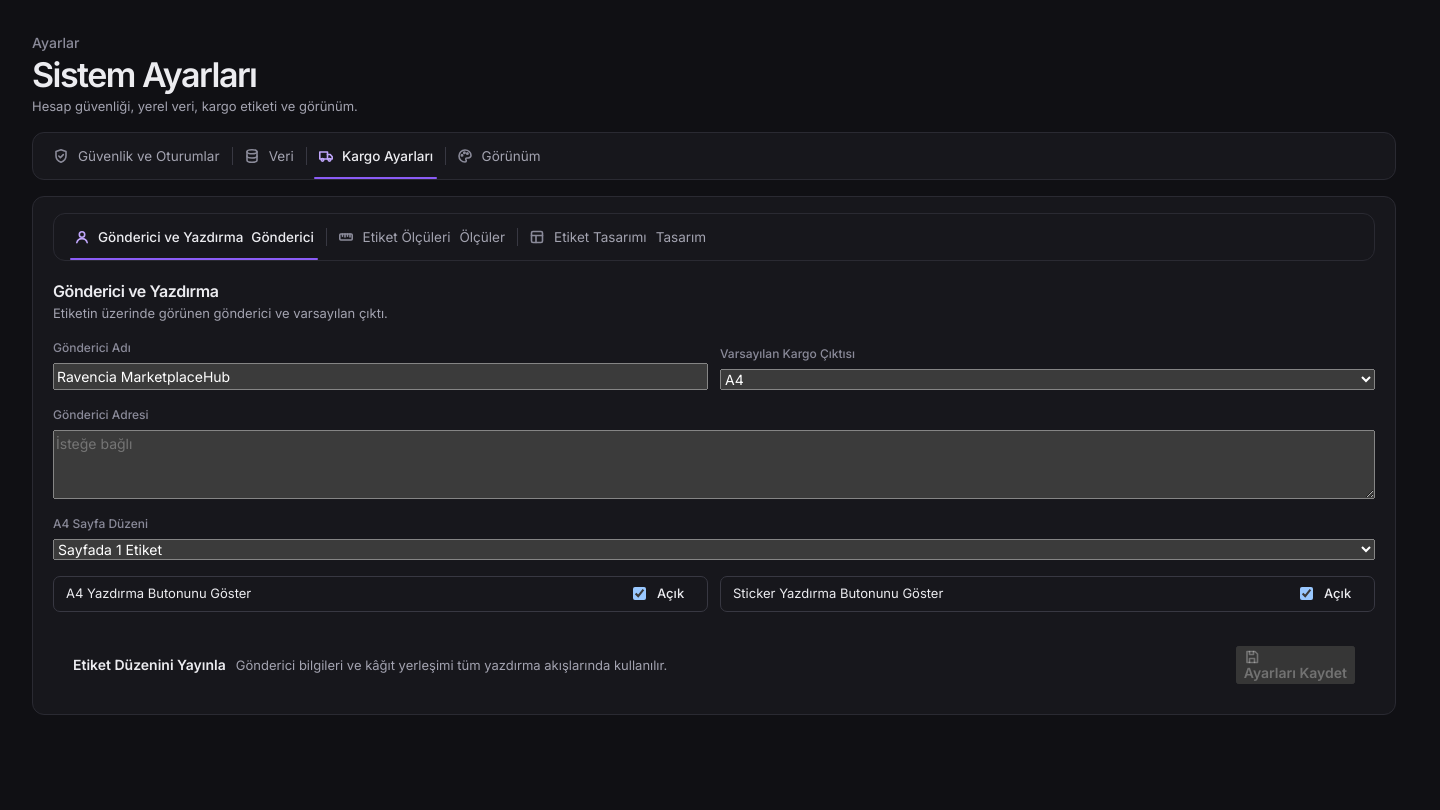
Scenario: SystemSettingsPage › shows a failed save as an error even when the server text does not sound like one (W9)
Step 1. Click the switch named "Sticker Yazdırma Butonunu Göster" → (1306, 594), box x1=1300 y1=587 x2=1313 y2=600
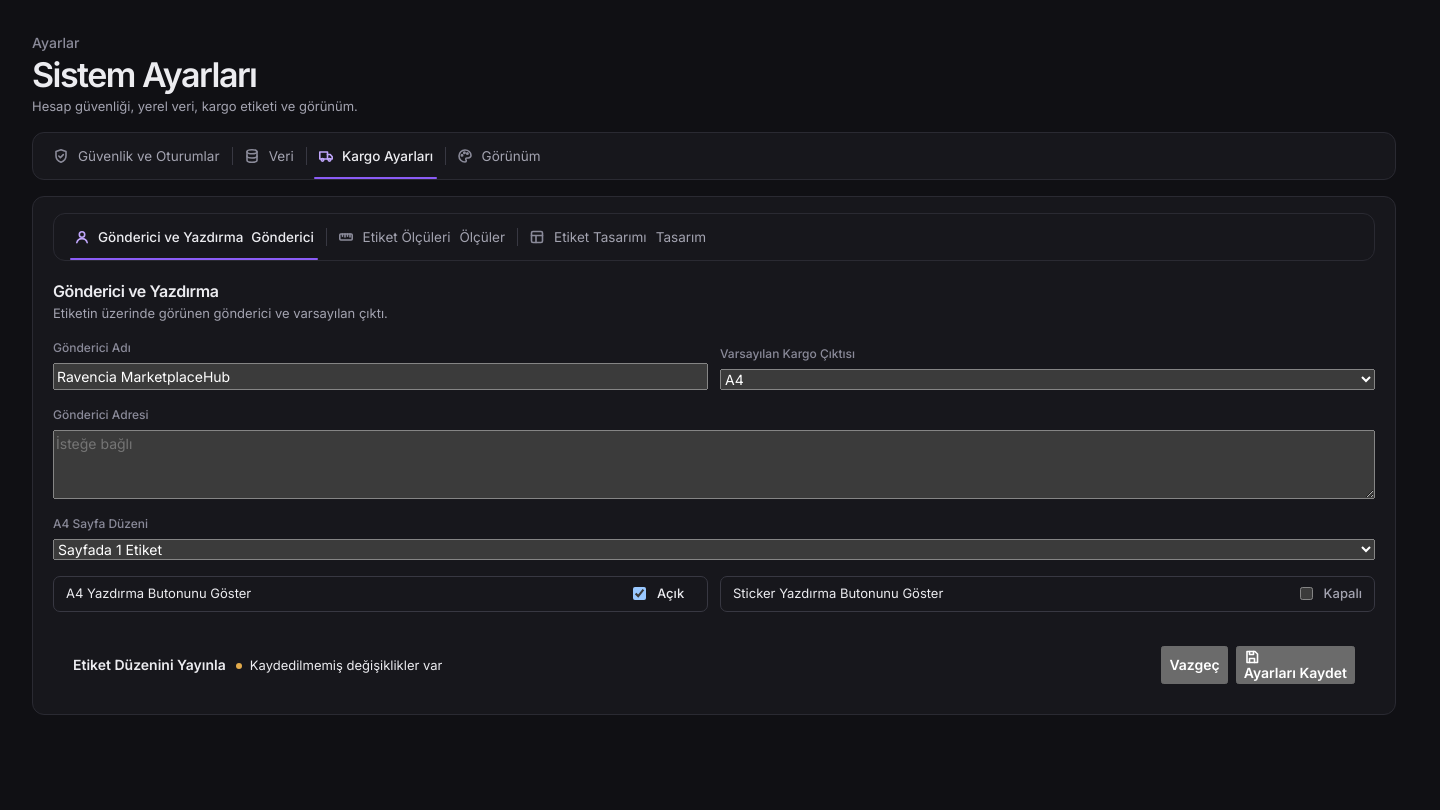
Step 2. Click the button "Ayarları Kaydet" → (1295, 665), box x1=1236 y1=646 x2=1355 y2=684
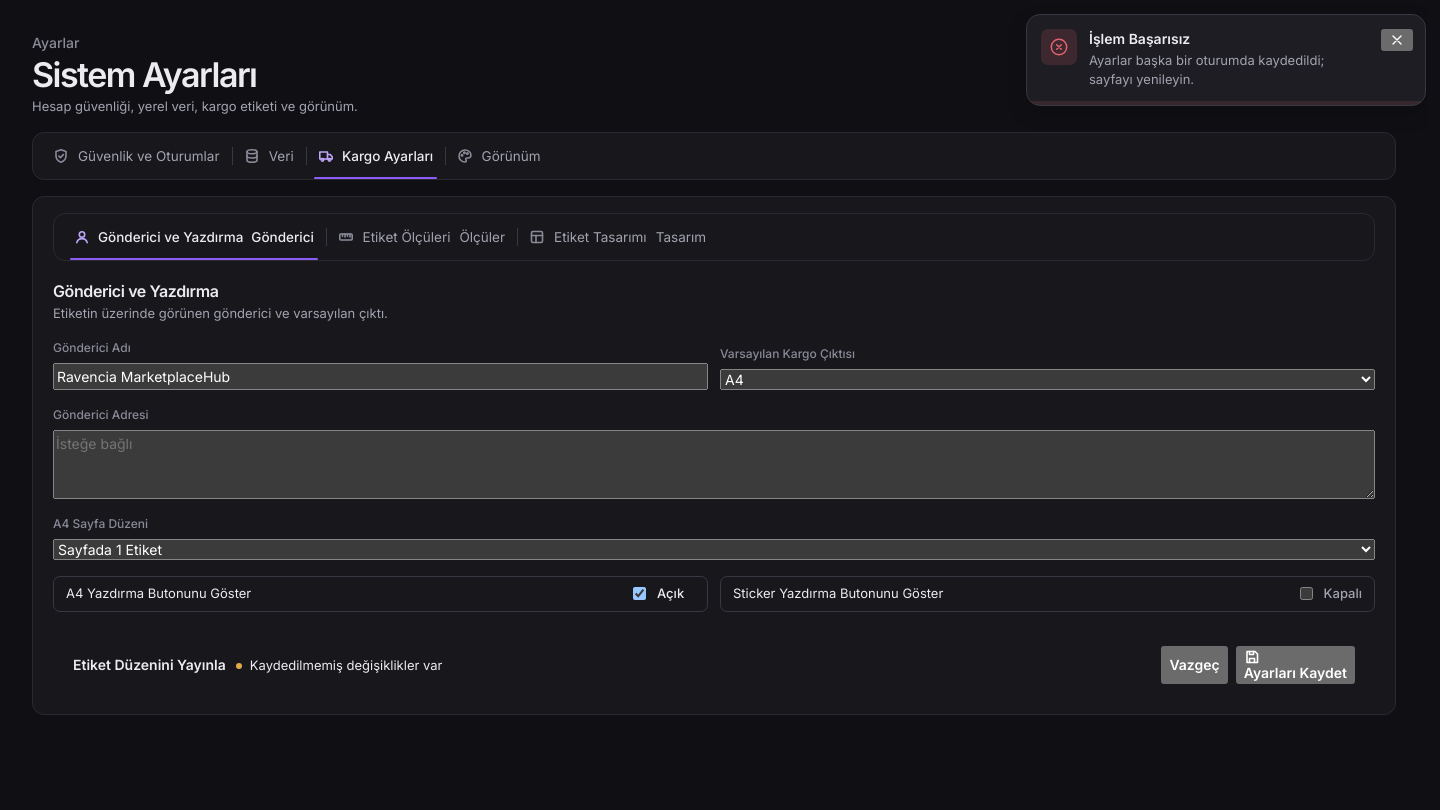
Expected: the message with class "app-toast" shows "başka bir oturumda", x1=1089 y1=52 x2=1324 y2=87
